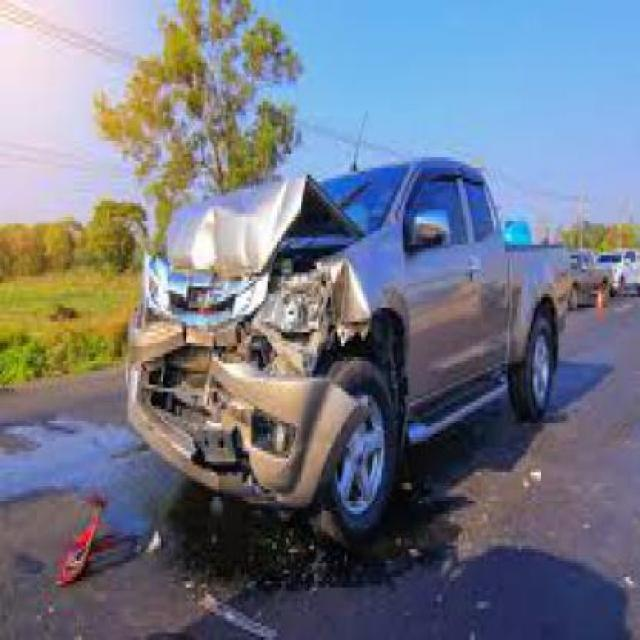damaged-front-bumper: (133, 324, 353, 502)
